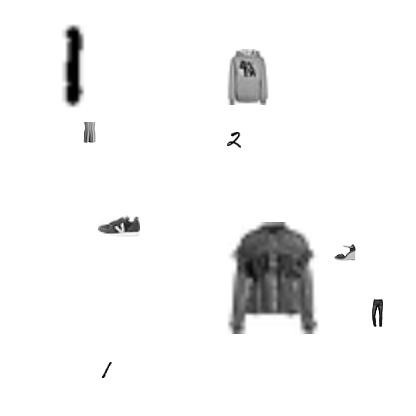1: (15, 10, 127, 122), (95, 359, 117, 381)
2: (223, 128, 245, 150)
Dress: (75, 115, 103, 143)
Pullover: (220, 49, 276, 105)
Sandal: (334, 241, 356, 263)
Shirt: (217, 222, 329, 334)
Sneaker: (98, 205, 140, 247)
Trouser: (363, 299, 391, 327)
